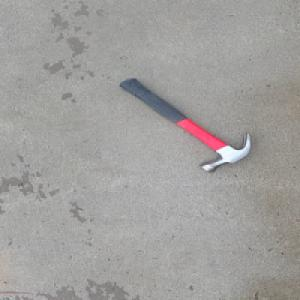Hammer: (117, 78, 254, 173)
